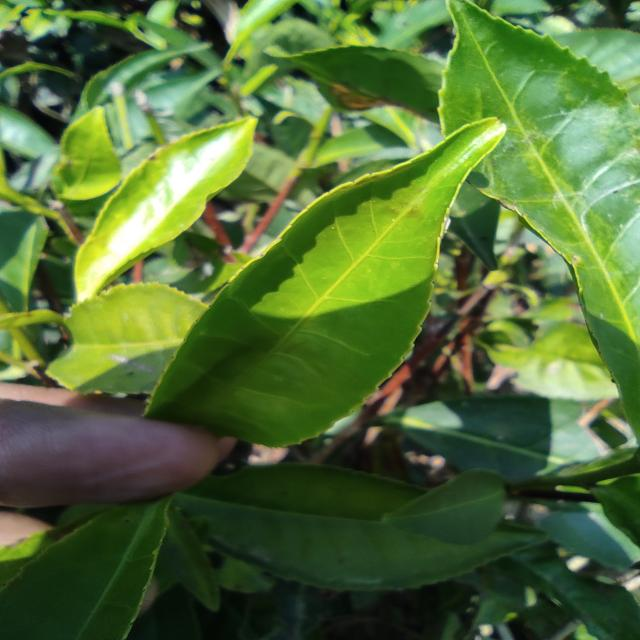Category C 4-7 days: (150, 100, 515, 470)
